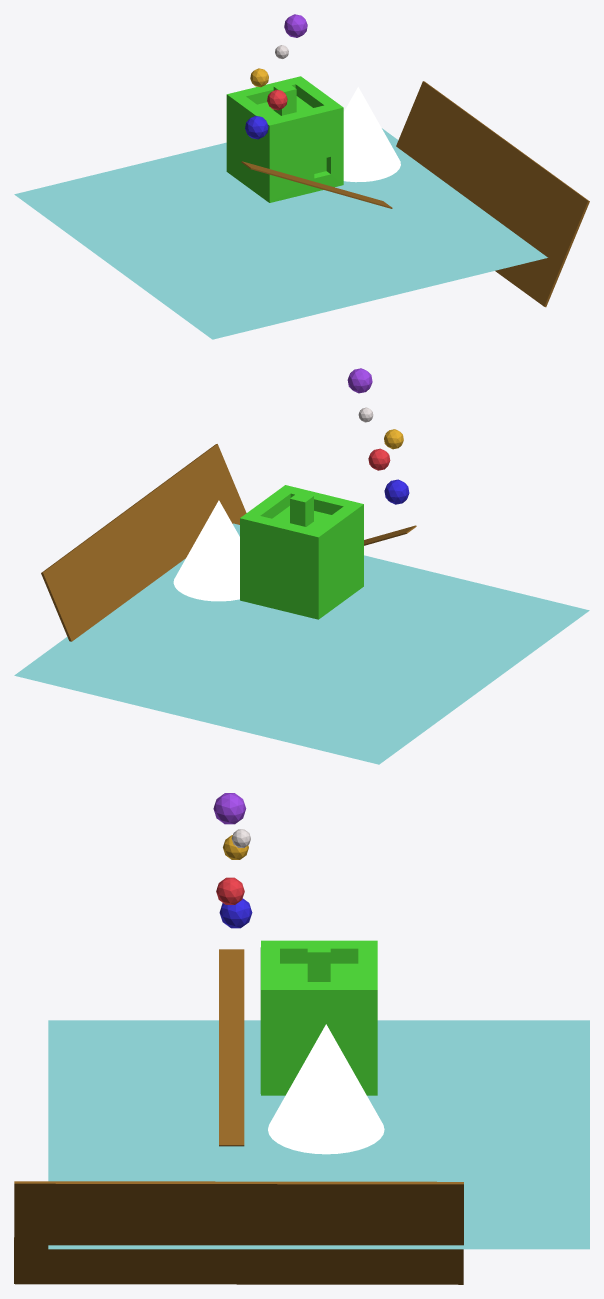
3 views of the same model, one above another, from view 1: azimuth 30°, elevation 25°; view 2: azimuth 150°, elevation 25°; view 3: azimuth 270°, elevation 25° (orthographic). The views are drawn at different scales.
Visible parts, largest first — view 1: Plane, Cube.002, Cube, Cone, Cube.001, Icosphere, Icosphere.004; view 2: Plane, Cube.002, Cube, Cone; view 3: Plane, Cube.002, Cube, Cone, Cube.001, Icosphere.004, Icosphere, Icosphere.001.
Boxes of the visible parts, x1,y1,x2,y2 form: Plane: (14, 128, 547, 339); Cube.002: (396, 81, 589, 307); Cube: (226, 76, 343, 202); Cone: (343, 87, 400, 182); Cube.001: (241, 161, 392, 208); Icosphere: (245, 115, 268, 139); Icosphere.004: (284, 14, 307, 37); Plane: (14, 523, 589, 764); Cube.002: (41, 444, 246, 641); Cube: (240, 485, 363, 619); Cone: (173, 500, 239, 601); Plane: (48, 1020, 589, 1249); Cube.002: (14, 1181, 463, 1284); Cube: (260, 940, 377, 1095); Cone: (268, 1024, 384, 1154); Cube.001: (219, 949, 244, 1146); Icosphere.004: (213, 793, 246, 824); Icosphere: (219, 898, 252, 928); Icosphere.001: (216, 877, 244, 904).
Bounding box in the file's own units: 9.85 × 7.13 × 9.87.
